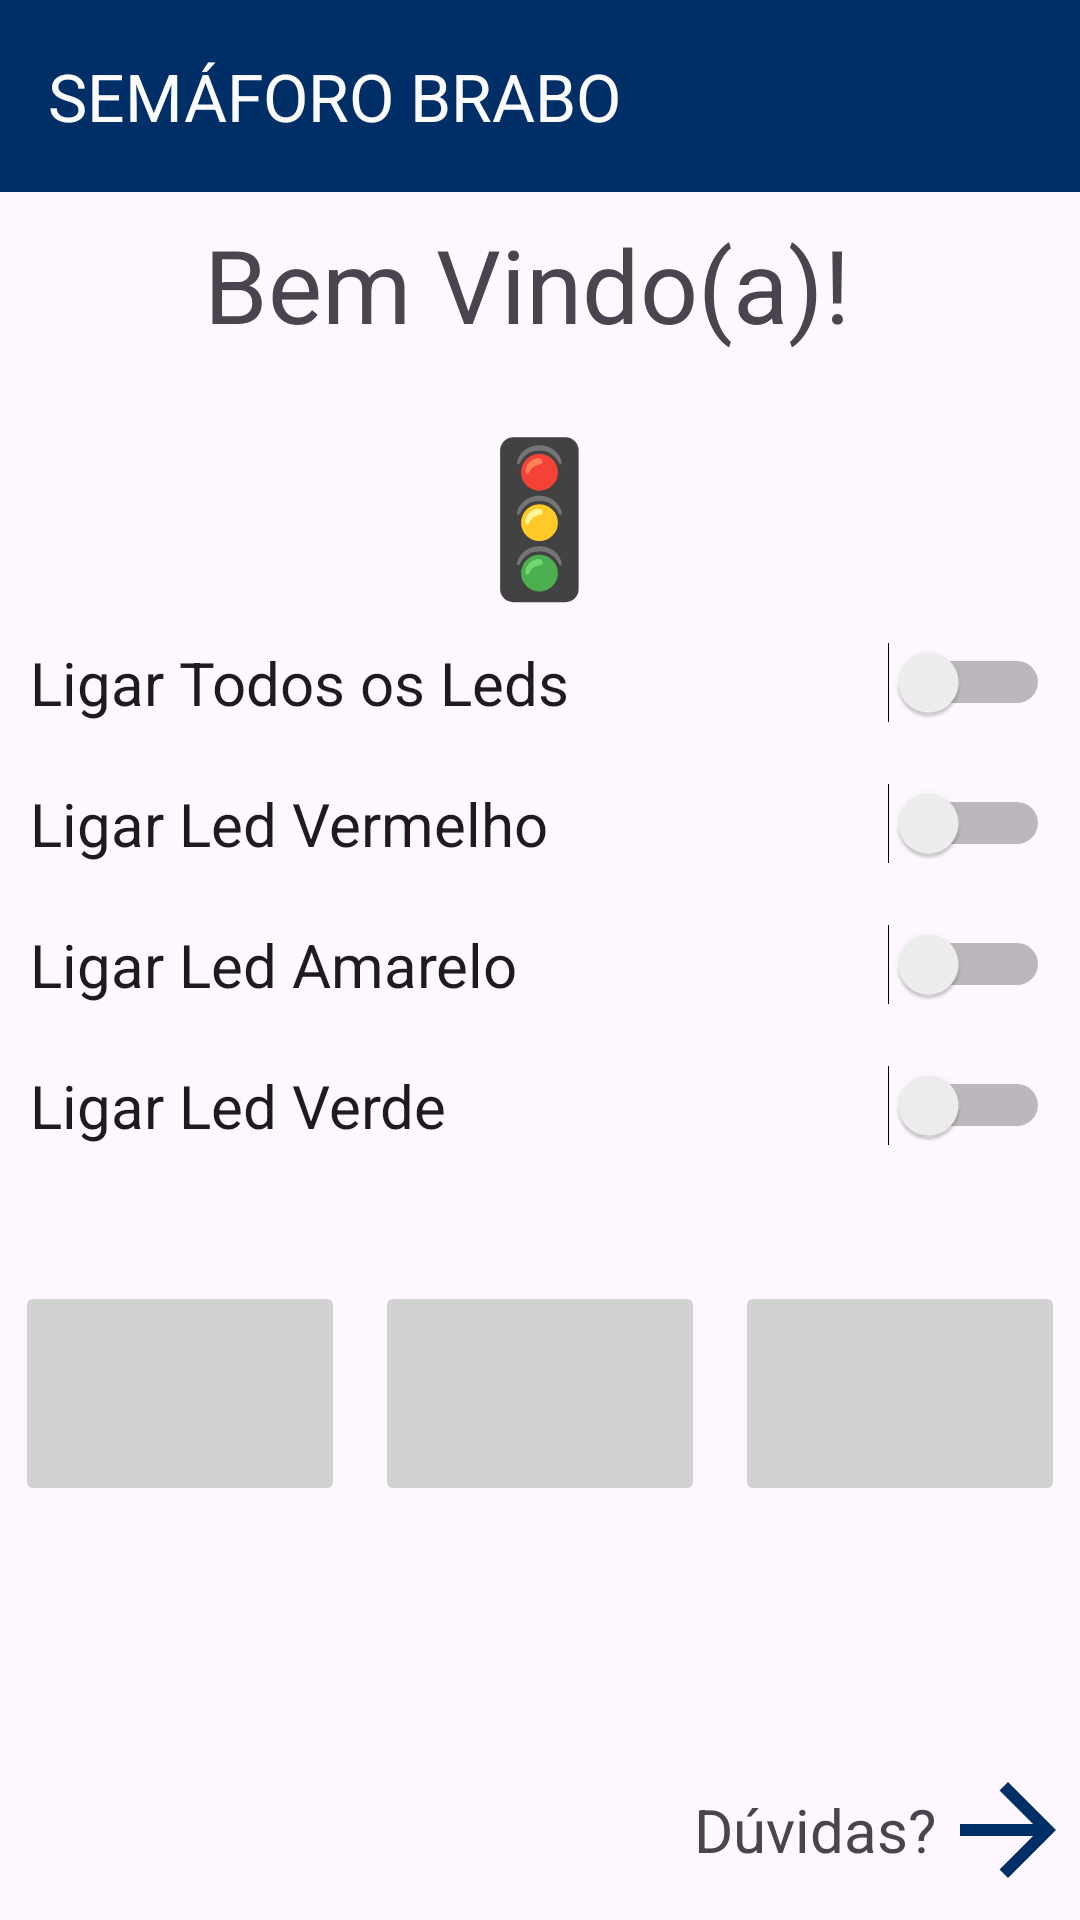

Where to tap for icons on this 1080 × 1920 app screen, as point (x, y):
arrow forward: point (1008, 1830)
